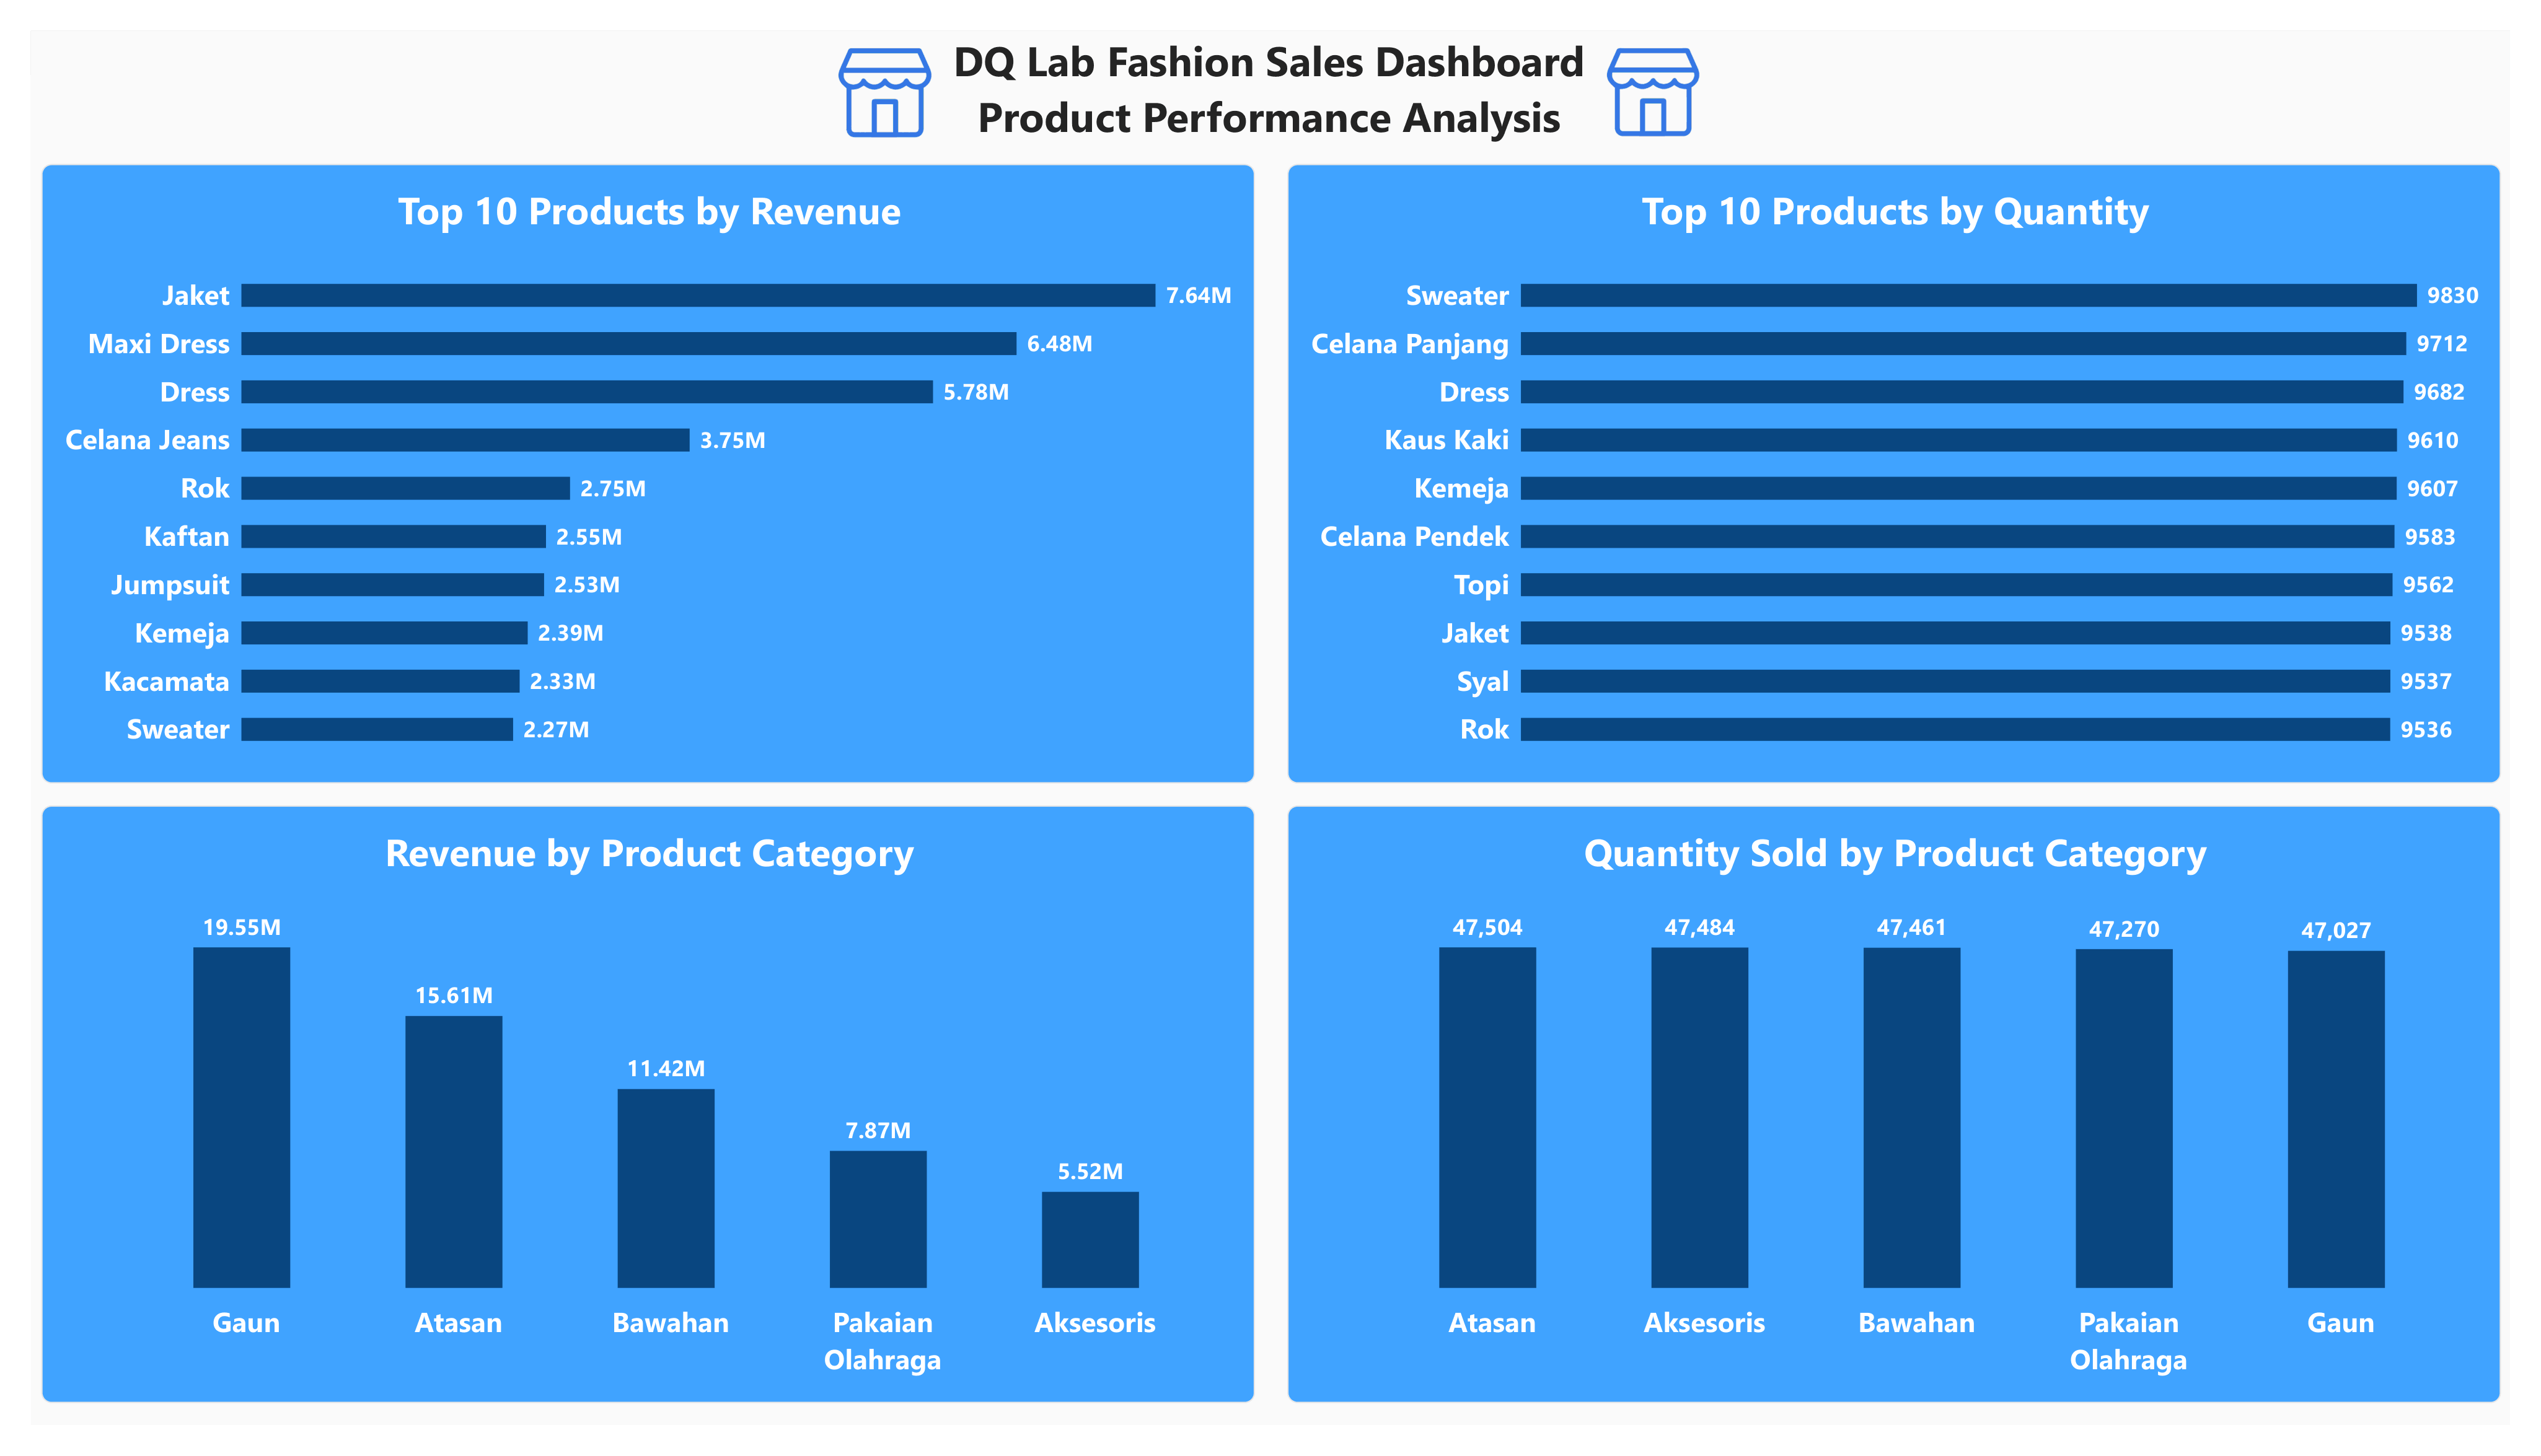

Layout of this report page (visuals, bound fields, positions):
{"tool":"powerbi","page":{"name":"Product Performance","canvas":[1920,1080],"ordinal":2},"visuals":[{"type":"textbox","box":[708.1,0,502.2,102.9],"z":0},{"type":"clusteredBarChart","title":"Top 10 Products by Revenue","fields":{"Category":["Master Produk.Nama Produk"],"Y":["Transaksi Penjualan.Total Revenue"]},"box":[7.5,102.5,940,480],"z":1000},{"type":"barChart","title":"Top 10 Products by Quantity","fields":{"Category":["Master Produk.Nama Produk"],"Y":["Transaksi Penjualan.Total Quantity"]},"box":[972.5,102.5,940,480],"z":2000},{"type":"columnChart","title":"Revenue by Product Category","fields":{"Category":["Master Produk.Kategori"],"Y":["Transaksi Penjualan.Total Revenue"]},"box":[7.5,600,940,462.5],"z":3000},{"type":"columnChart","title":"Quantity Sold by Product Category","fields":{"Category":["Master Produk.Kategori"],"Y":["Transaksi Penjualan.Total Quantity Sold"]},"box":[972.5,600,940,462.5],"z":4000},{"type":"image","box":[615.4,10.3,92.6,80.3],"z":5000},{"type":"image","box":[1210.3,10.3,92.9,80],"z":6000}]}

Visuals, with their boxes on the page's 1920x1080 design canvas (x1, y1, x2, y2). These are canvas units, not pixel positions in the 2541x1456 screenshot, which may show the page scaled, cropped or inside an application window:
textbox: x1=708, y1=0, x2=1210, y2=103
"Top 10 Products by Revenue" clusteredBarChart: x1=8, y1=102, x2=948, y2=582
"Top 10 Products by Quantity" barChart: x1=972, y1=102, x2=1912, y2=582
"Revenue by Product Category" columnChart: x1=8, y1=600, x2=948, y2=1062
"Quantity Sold by Product Category" columnChart: x1=972, y1=600, x2=1912, y2=1062
image: x1=615, y1=10, x2=708, y2=91
image: x1=1210, y1=10, x2=1303, y2=90
